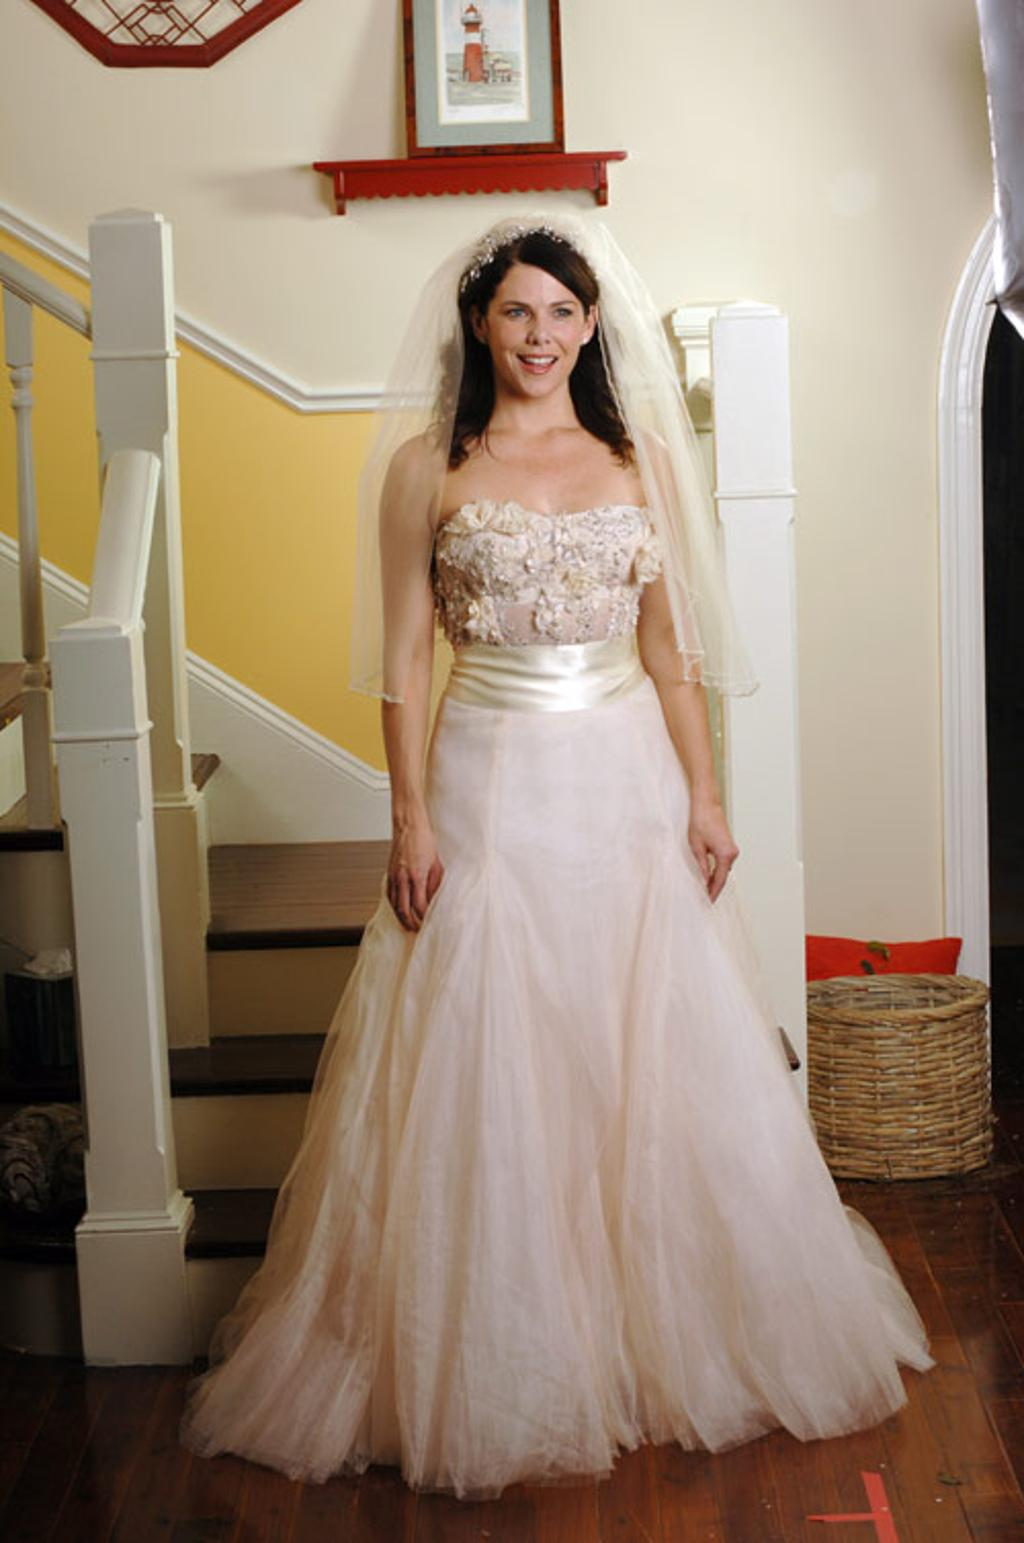face: (491, 256, 584, 398)
